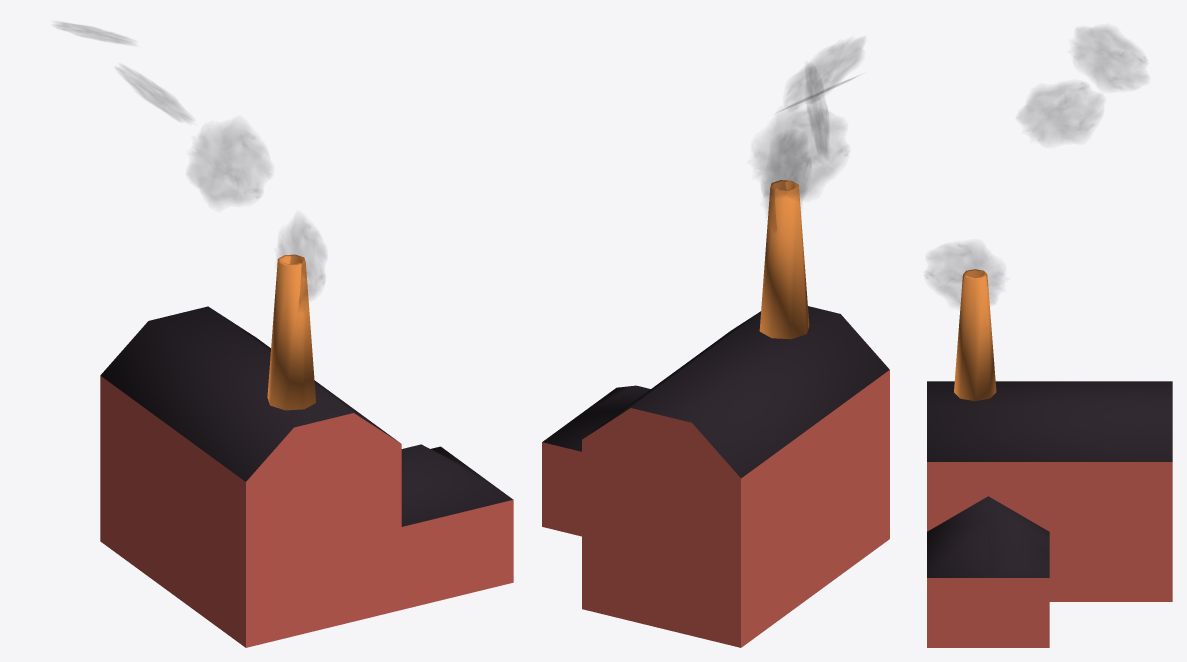
The model's file is coal1.gltf.
3 views of the same model, side by side, from view 1: azimuth 30°, elevation 25°; view 2: azimuth 150°, elevation 25°; view 3: azimuth 270°, elevation 25° (orthographic). The views are drawn at different scales.
Parts seen in each view (by area): view 1: Cube, SmokePart.002, SmokePart, SmokePart.003; view 2: Cube, SmokePart.001, SmokePart.004, SmokePart, SmokePart.002; view 3: Cube, SmokePart.003, SmokePart.004, SmokePart.
Part boxes in pixels (<box>): Cube: <box>100,254,513,647</box>; SmokePart.002: <box>190,125,268,202</box>; SmokePart: <box>279,222,324,304</box>; SmokePart.003: <box>117,67,190,120</box>; Cube: <box>542,180,889,647</box>; SmokePart.001: <box>755,111,846,195</box>; SmokePart.004: <box>787,39,861,106</box>; SmokePart: <box>764,141,808,227</box>; SmokePart.002: <box>807,71,828,154</box>; Cube: <box>927,269,1172,647</box>; SmokePart.003: <box>1020,83,1099,140</box>; SmokePart.004: <box>1075,28,1145,88</box>; SmokePart: <box>926,244,1002,304</box>.
Size of the model in its own units: 1.91 by 2.9 by 1.35.
Materials: 4 (1 with a texture image).
